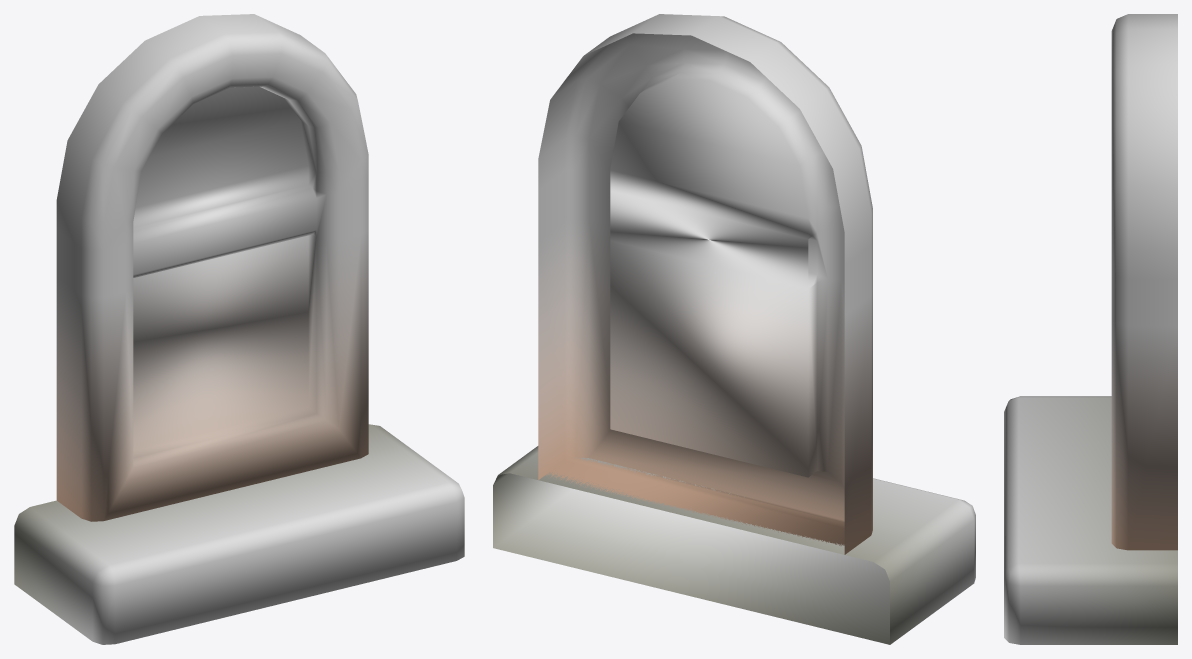
File: Window_002.fbx
3 views of the same model, side by side, from view 1: azimuth 30°, elevation 25°; view 2: azimuth 150°, elevation 25°; view 3: azimuth 270°, elevation 25° (orthographic). The views are drawn at different scales.
Visible parts, largest first — view 1: Window_002; view 2: Window_002; view 3: Window_002.
Boxes of the visible parts, x1,y1,x2,y2 form: Window_002: (14,14,464,644); Window_002: (493,14,975,644); Window_002: (1004,14,1177,644).
Bounding box in the file's own units: 130 × 175 × 52.5.
